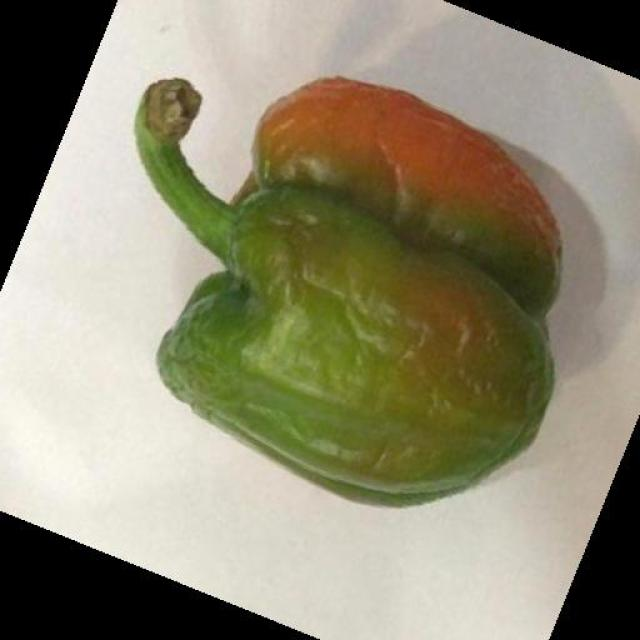Stale_Capsicum: (138, 27, 559, 515)
